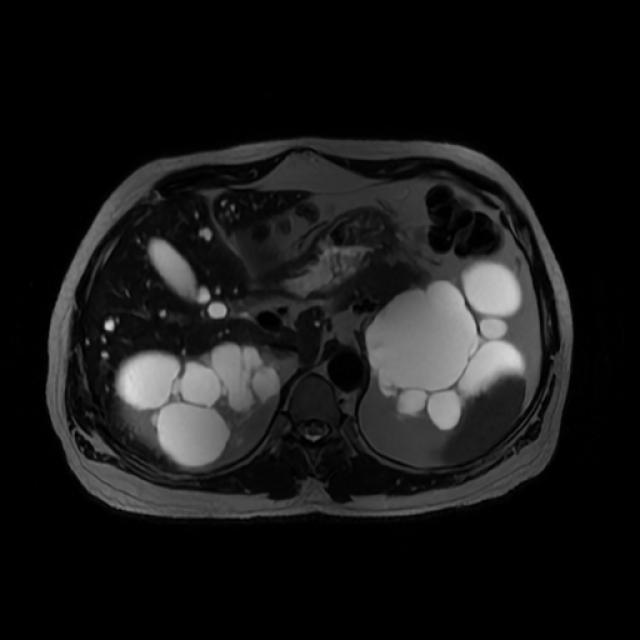sag: (114, 341, 285, 466)
sol: (364, 259, 527, 430)
